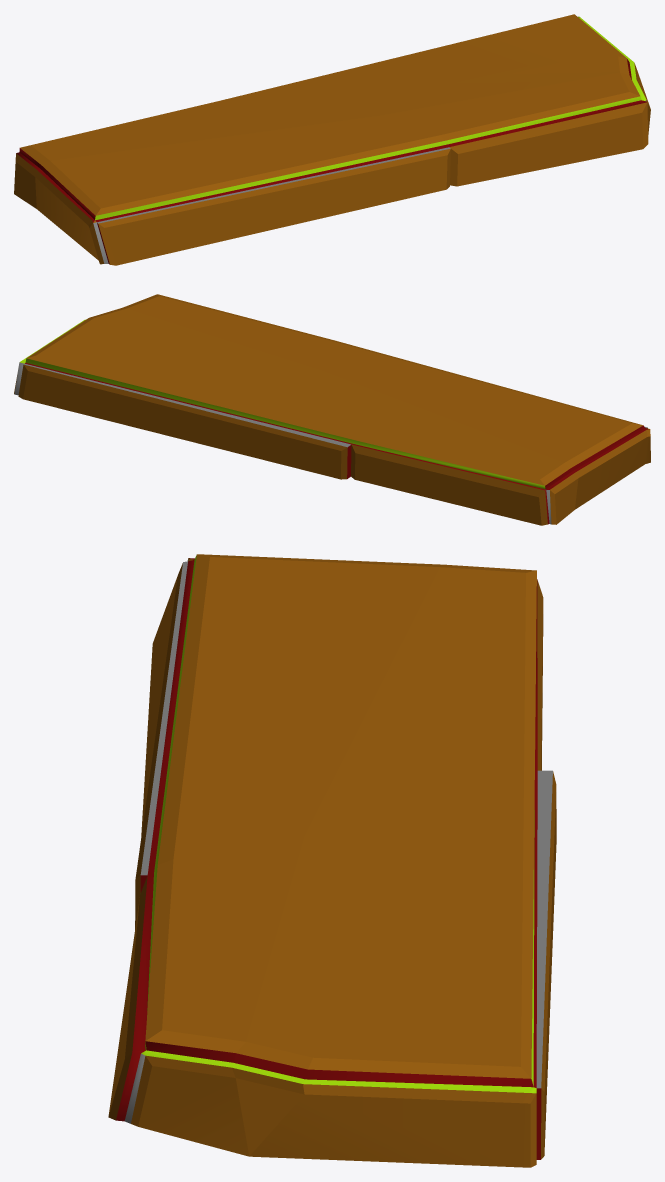
File: SM_capaARENACUADRADA.fbx
3 renders of one model, top to bottom at view 1: azimuth 30°, elevation 25°; view 2: azimuth 150°, elevation 25°; view 3: azimuth 270°, elevation 25°, orthographic. The views are drawn at different scales.
Parts seen in each view (by area): view 1: Cylinder003; view 2: Cylinder003; view 3: Cylinder003.
Part boxes in pixels (x1=…): Cylinder003: x1=14, y1=14, x2=650, y2=265; Cylinder003: x1=14, y1=294, x2=650, y2=525; Cylinder003: x1=108, y1=554, x2=556, y2=1167.
Size of the model in its own units: 11.01 by 3.87 by 0.8349.
